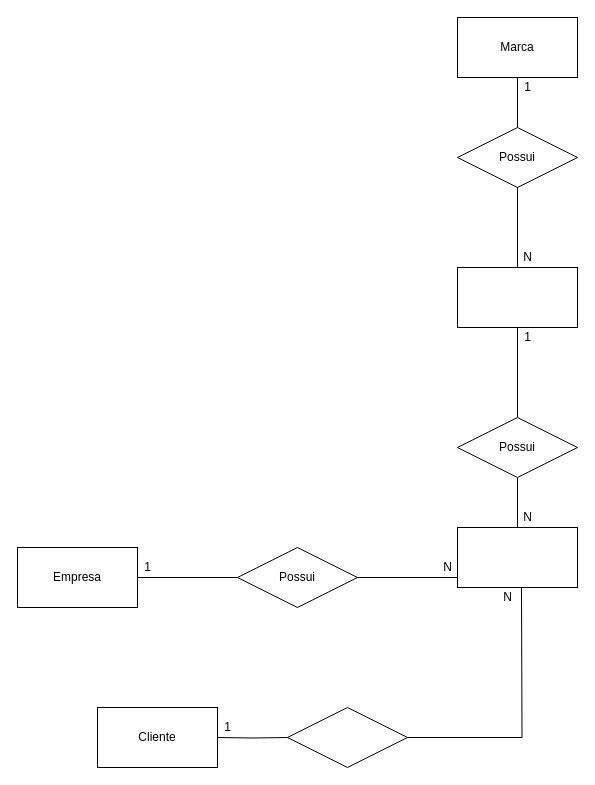
This 595x785 diagram has some shape labels left out. Each missing label, with the centre of its shape:
Aluga: pixel 347 737
Modelo: pixel 517 297
Veiculo: pixel 517 557
